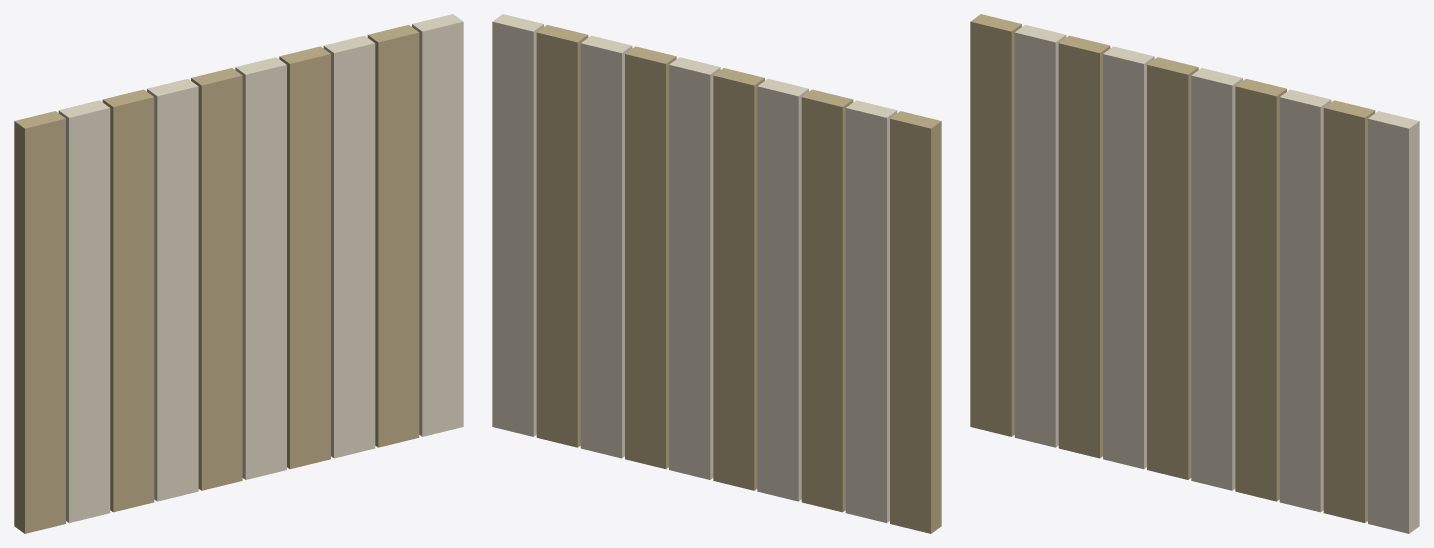
The model's file is curtain.glb.
3 views of the same model, side by side, from view 1: azimuth 30°, elevation 25°; view 2: azimuth 150°, elevation 25°; view 3: azimuth 330°, elevation 25° (orthographic).
Visible parts, largest first — view 1: REF-L05-R01-curtain-part-1, REF-L05-R01-curtain-part-9, REF-L05-R01-curtain-part-2, REF-L05-R01-curtain-part-3, REF-L05-R01-curtain-part-8, REF-L05-R01-curtain-part-4, REF-L05-R01-curtain-part-5, REF-L05-R01-curtain-part-6, REF-L05-R01-curtain-part-10, REF-L05-R01-curtain-part-7; view 2: REF-L05-R01-curtain-part-1, REF-L05-R01-curtain-part-9, REF-L05-R01-curtain-part-2, REF-L05-R01-curtain-part-3, REF-L05-R01-curtain-part-8, REF-L05-R01-curtain-part-4, REF-L05-R01-curtain-part-5, REF-L05-R01-curtain-part-6, REF-L05-R01-curtain-part-10, REF-L05-R01-curtain-part-7; view 3: REF-L05-R01-curtain-part-10, REF-L05-R01-curtain-part-2, REF-L05-R01-curtain-part-9, REF-L05-R01-curtain-part-3, REF-L05-R01-curtain-part-8, REF-L05-R01-curtain-part-1, REF-L05-R01-curtain-part-5, REF-L05-R01-curtain-part-6, REF-L05-R01-curtain-part-7, REF-L05-R01-curtain-part-4.
Boxes of the visible parts, box(x1,y1,x2,y2) form: REF-L05-R01-curtain-part-1: box(14, 111, 65, 533); REF-L05-R01-curtain-part-9: box(367, 25, 419, 447); REF-L05-R01-curtain-part-2: box(58, 100, 110, 522); REF-L05-R01-curtain-part-3: box(102, 89, 154, 512); REF-L05-R01-curtain-part-8: box(323, 35, 375, 458); REF-L05-R01-curtain-part-4: box(147, 78, 198, 501); REF-L05-R01-curtain-part-5: box(191, 68, 242, 490); REF-L05-R01-curtain-part-6: box(235, 57, 286, 479); REF-L05-R01-curtain-part-10: box(412, 14, 463, 436); REF-L05-R01-curtain-part-7: box(279, 46, 330, 469); REF-L05-R01-curtain-part-1: box(890, 111, 941, 533); REF-L05-R01-curtain-part-9: box(536, 25, 588, 447); REF-L05-R01-curtain-part-2: box(845, 100, 897, 522); REF-L05-R01-curtain-part-3: box(801, 89, 853, 512); REF-L05-R01-curtain-part-8: box(580, 35, 632, 458); REF-L05-R01-curtain-part-4: box(757, 78, 808, 501); REF-L05-R01-curtain-part-5: box(713, 68, 764, 490); REF-L05-R01-curtain-part-6: box(669, 57, 720, 479); REF-L05-R01-curtain-part-10: box(492, 14, 543, 436); REF-L05-R01-curtain-part-7: box(625, 46, 676, 469); REF-L05-R01-curtain-part-10: box(1368, 111, 1419, 533); REF-L05-R01-curtain-part-2: box(1014, 25, 1066, 447); REF-L05-R01-curtain-part-9: box(1323, 100, 1375, 522); REF-L05-R01-curtain-part-3: box(1058, 35, 1110, 458); REF-L05-R01-curtain-part-8: box(1279, 89, 1331, 512); REF-L05-R01-curtain-part-1: box(970, 14, 1021, 436); REF-L05-R01-curtain-part-5: box(1147, 57, 1198, 479); REF-L05-R01-curtain-part-6: box(1191, 68, 1242, 490); REF-L05-R01-curtain-part-7: box(1235, 78, 1286, 501); REF-L05-R01-curtain-part-4: box(1103, 46, 1154, 469).
Size of the model in its own units: 0.7249 by 0.64 by 0.03.
